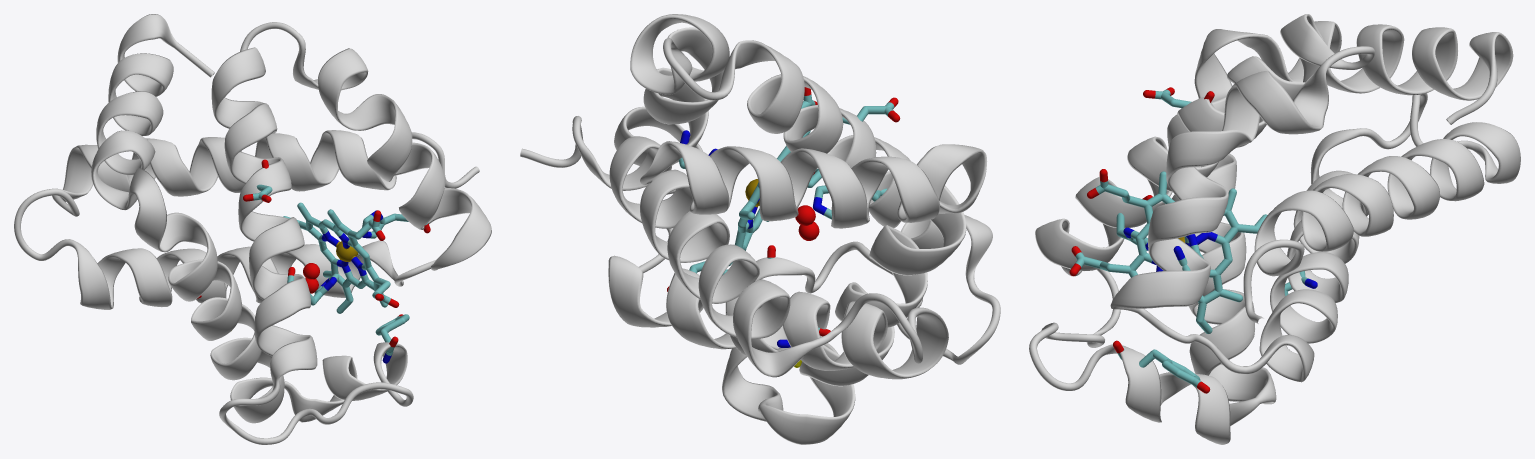
File: frame04.gltf
3 renders of one model, left to right at view 1: azimuth 30°, elevation 25°; view 2: azimuth 150°, elevation 25°; view 3: azimuth 270°, elevation 25°, orthographic. The views are drawn at different scales.
Visible parts, largest first — view 1: vmd_mol4_rep3, vmd_mol4_rep2, vmd_mol4_rep1; view 2: vmd_mol4_rep3, vmd_mol4_rep1, vmd_mol4_rep2, vmd_mol4_rep4; view 3: vmd_mol4_rep3, vmd_mol4_rep2, vmd_mol4_rep1.
Boxes of the visible parts, box(x1,y1,x2,y2) form: vmd_mol4_rep3: box(14, 14, 491, 444); vmd_mol4_rep2: box(283, 202, 399, 313); vmd_mol4_rep1: box(197, 159, 430, 363); vmd_mol4_rep3: box(520, 14, 1000, 444); vmd_mol4_rep1: box(667, 97, 900, 367); vmd_mol4_rep2: box(729, 87, 821, 265); vmd_mol4_rep4: box(795, 205, 819, 240); vmd_mol4_rep3: box(1029, 14, 1520, 444); vmd_mol4_rep2: box(1069, 169, 1267, 333); vmd_mol4_rep1: box(1113, 87, 1317, 393).
Size of the model in its own units: 1.42 by 1.19 by 1.3.
